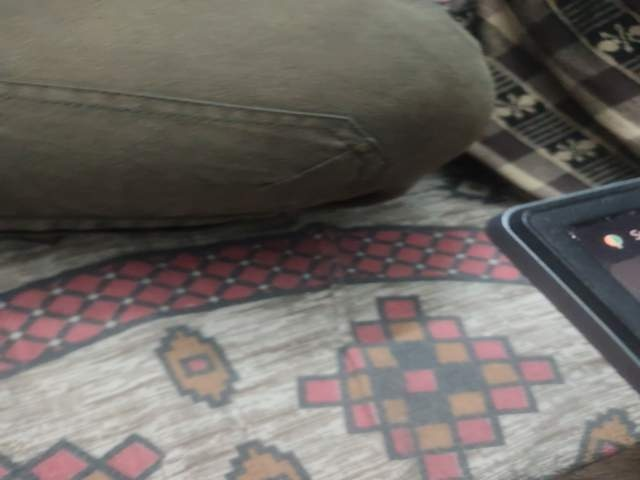pothole: (319, 308, 419, 388)
